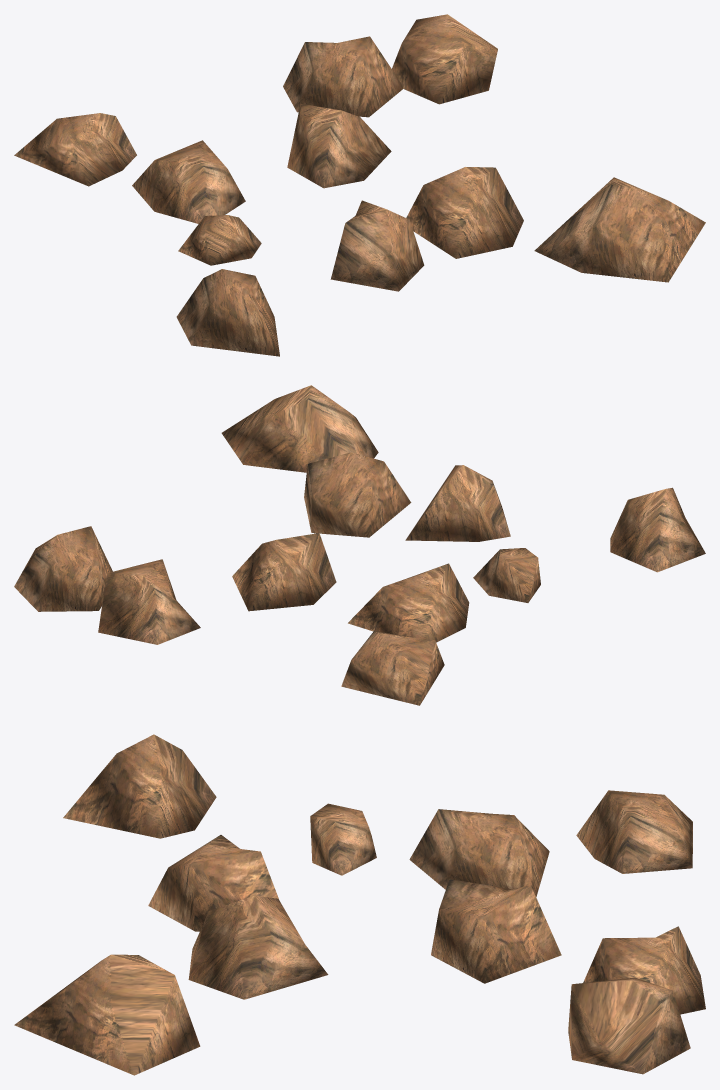
The model's file is rock_tatt_bensmesa_pebbles_a1_l1.fbx.
3 views of the same model, one above another, from view 1: azimuth 30°, elevation 25°; view 2: azimuth 150°, elevation 25°; view 3: azimuth 270°, elevation 25° (orthographic). The views are drawn at different scales.
Parts seen in each view (by area): view 1: mesh_node; view 2: mesh_node; view 3: mesh_node.
Part boxes in pixels (<box>): mesh_node: <box>14,14,705,356</box>; mesh_node: <box>14,385,705,705</box>; mesh_node: <box>14,734,705,1075</box>.
Bounding box in the file's own units: 1.21 × 0.1439 × 1.22.
